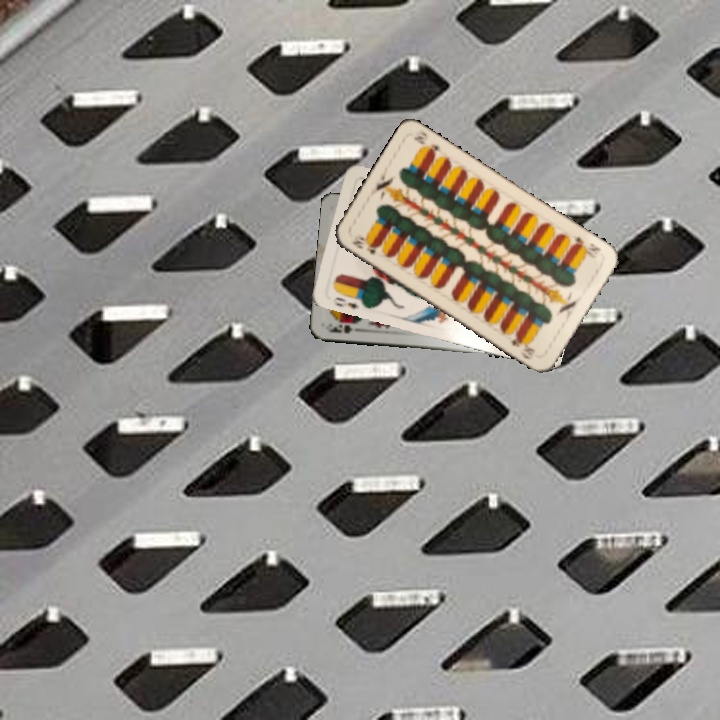E10: (569, 232, 604, 257), (349, 230, 381, 257)
EO: (331, 289, 366, 311)
SK: (324, 318, 365, 336)
